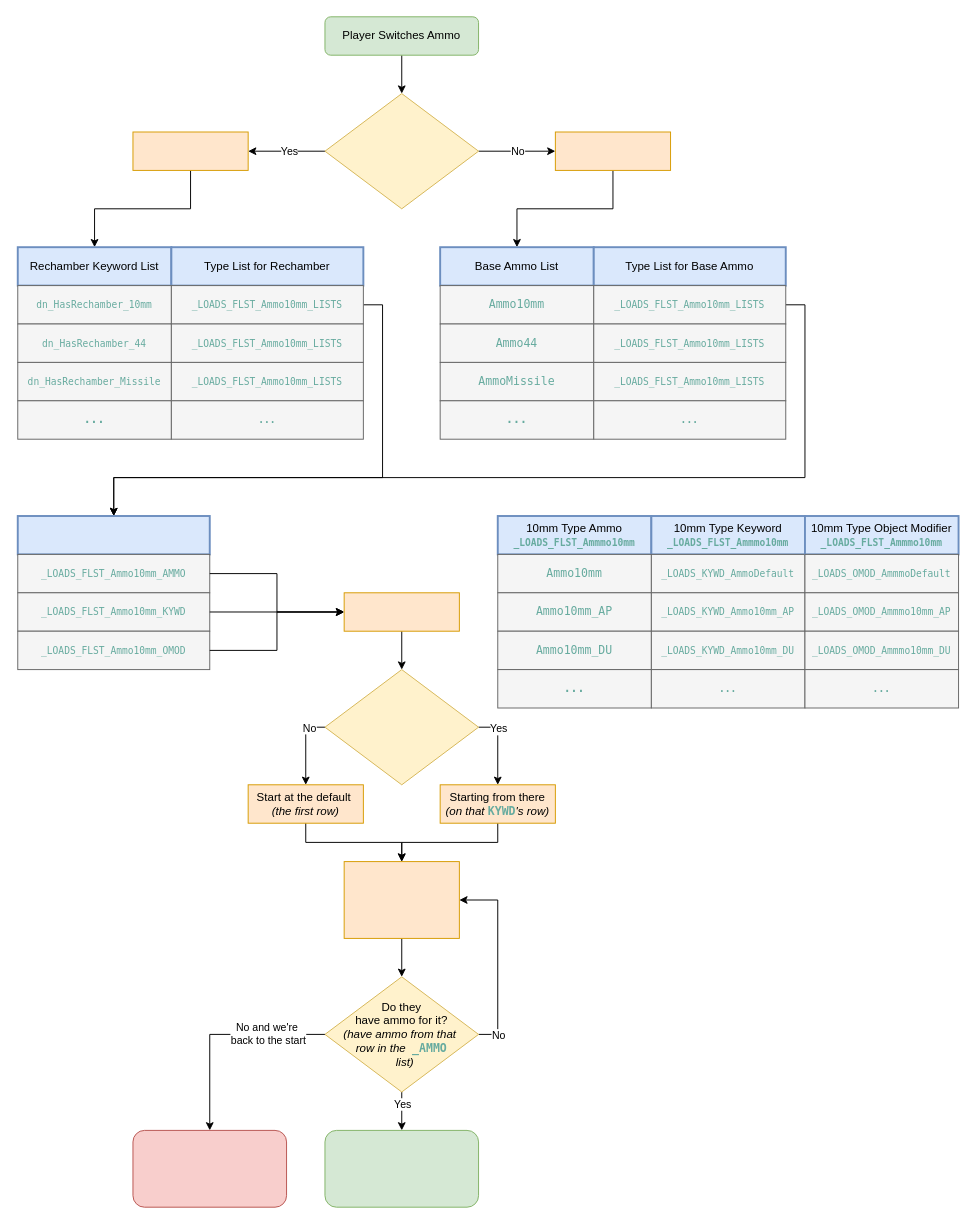
Some shapes in this 975 by 1224 pixel diagram are drawn without their labels. The shapes that lost their labels are listed below. From the top down, each one's centre as x and y in pixels, then its label:
pixel 190 150: Find the type list for the rechamber
pixel 401 151: Is their weapon rechambered? (has dn_HasRechamber keyword)
pixel 612 150: Find the type list for the base ammo
pixel 113 535: 10mm Type Lists _LOADS_FLST_Ammmo10mm
pixel 401 611: Treat these lists as a table
pixel 401 727: Is a type currently equipped? (has keyword from _KYWD list)
pixel 401 899: Check the next type (the next row, loop round if we hit the the bottom)
pixel 209 1168: They're out of ammo! Show a warning message.
pixel 401 1168: Equip that ammo. (the Object Modifier from the same row in the _OMOD list)
